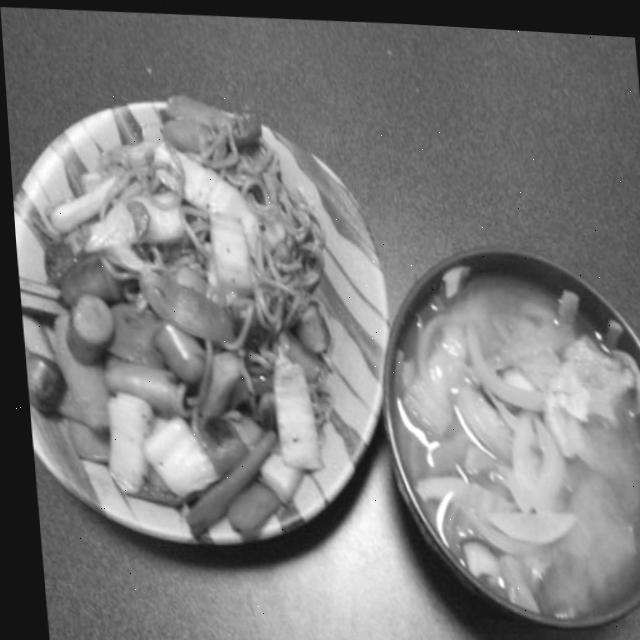汤锅炖物: (342, 207, 640, 633)
面条主食: (4, 73, 406, 562)
